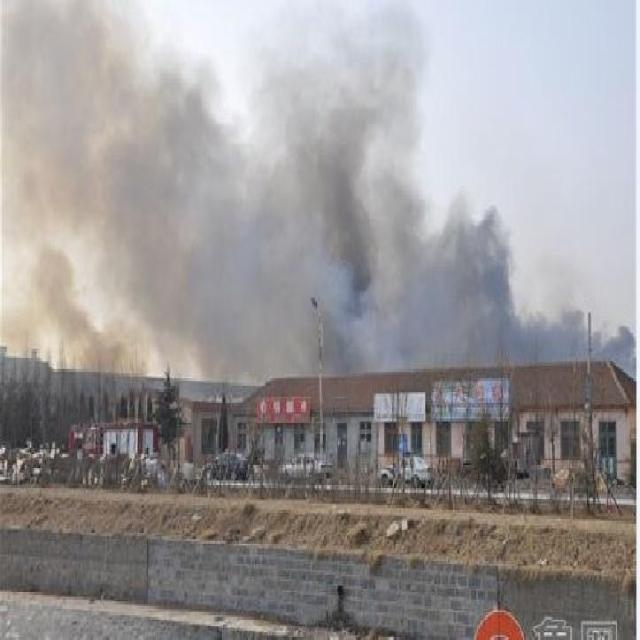Smoke: (1, 1, 636, 388)
